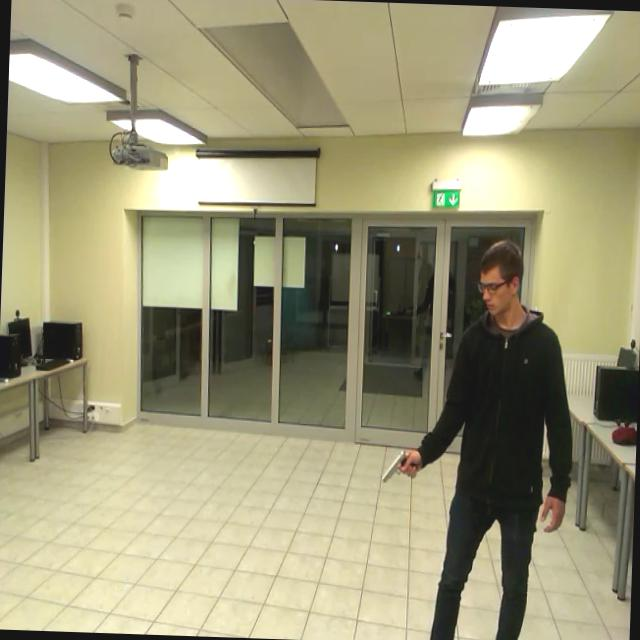handgun: (378, 425, 427, 497)
